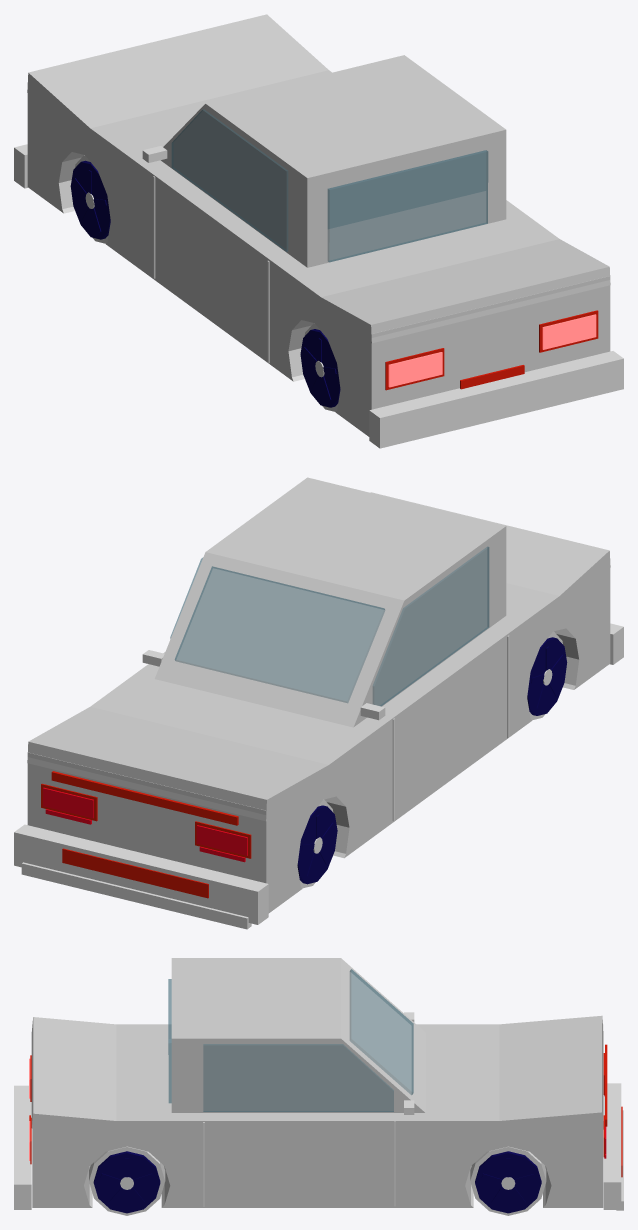
File: low_poly_car.fbx
3 renders of one model, top to bottom at view 1: azimuth 30°, elevation 25°; view 2: azimuth 150°, elevation 25°; view 3: azimuth 270°, elevation 25°, orthographic. The views are drawn at different scales.
Parts seen in each view (by area): view 1: Sedan_Body, Win_Rear, Bumper_Rear, Win_SideR, Wheel_FR_Rim, Wheel_RR_Rim, Taillight_L, Taillight_R, NumberPlate_R; view 2: Sedan_Body, Win_Front, Win_SideR, Bumper_Front, Spoiler_Front, Grille_Main, Grille_Upper, Wheel_FR_Rim, Wheel_RR_Rim, Headlight_R, Headlight_L; view 3: Sedan_Body, Win_SideL, Win_Front, Wheel_FL_Rim, Wheel_RL_Rim, Bumper_Front, Bumper_Rear, Wheel_RL_Tyre, Wheel_FL_Tyre, Win_Rear.
Part boxes in pixels (box(x1,y1,x2,y2)): Sedan_Body: box(27, 14, 610, 436); Win_Rear: box(327, 150, 488, 262); Bumper_Rear: box(369, 351, 623, 448); Win_SideR: box(171, 109, 287, 251); Wheel_FR_Rim: box(70, 160, 110, 239); Wheel_RR_Rim: box(300, 329, 340, 407); Taillight_L: box(542, 314, 596, 349); Taillight_R: box(388, 352, 442, 387); NumberPlate_R: box(460, 365, 524, 389); Sedan_Body: box(27, 477, 610, 913); Win_Front: box(175, 566, 384, 702); Win_SideR: box(373, 546, 489, 706); Bumper_Front: box(14, 824, 268, 924); Spoiler_Front: box(21, 862, 251, 929); Grille_Main: box(62, 848, 208, 898); Grille_Upper: box(51, 771, 238, 825); Wheel_FR_Rim: box(297, 805, 337, 884); Wheel_RR_Rim: box(527, 637, 567, 715); Headlight_R: box(196, 825, 247, 855); Headlight_L: box(43, 787, 93, 818); Sedan_Body: box(31, 958, 603, 1207); Win_SideL: box(203, 1044, 393, 1111); Win_Front: box(350, 969, 413, 1094); Wheel_FL_Rim: box(475, 1151, 541, 1213); Wheel_RL_Rim: box(93, 1151, 160, 1213); Bumper_Front: box(603, 1083, 621, 1209); Bumper_Rear: box(14, 1085, 31, 1209); Wheel_RL_Tyre: box(89, 1146, 165, 1215); Wheel_FL_Tyre: box(470, 1146, 546, 1215); Win_Rear: box(168, 979, 171, 1103).
Bounding box in the file's own units: 184 × 151 × 480.
